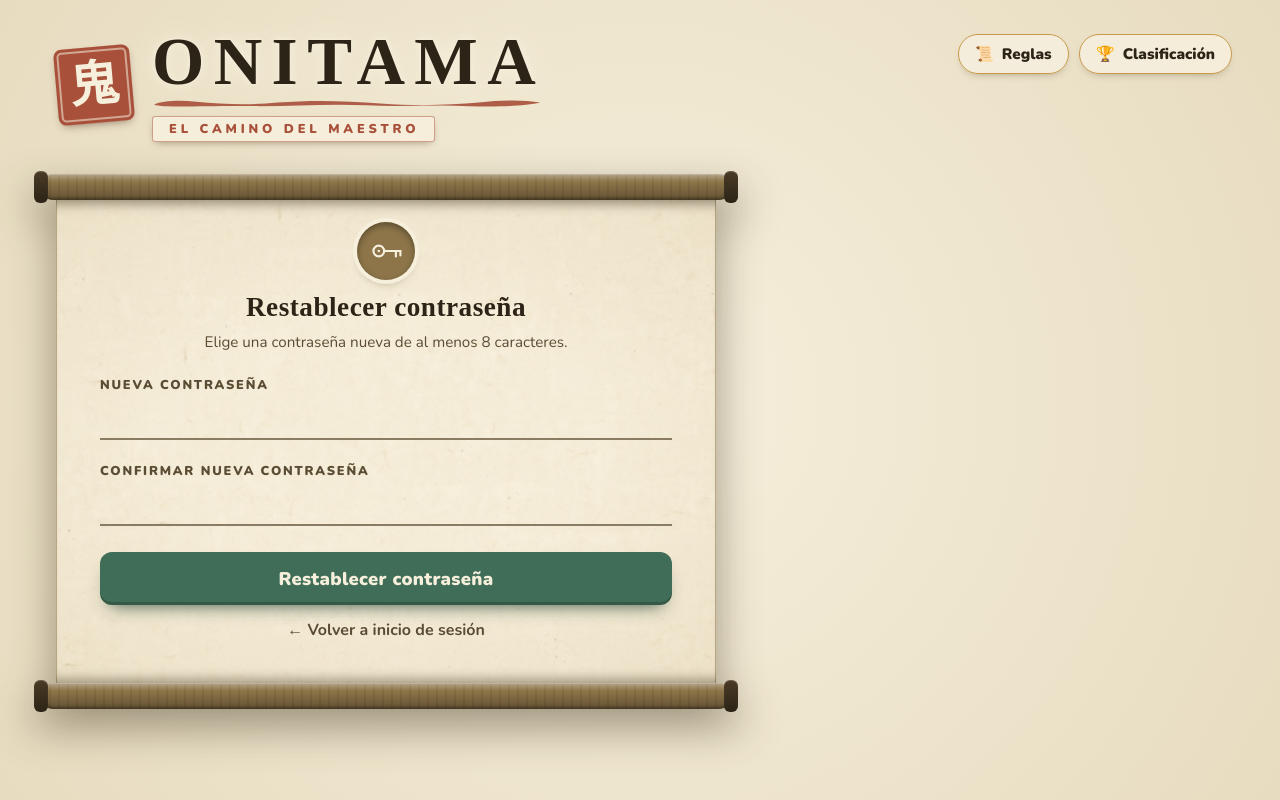
ResetPasswordPage › muestra un error si las conrtraseñas no coinciden
This screenshot has width=1280, height=800.
Step 1. Type "password1" into the password field labelled "Nueva contraseña" → [386, 418], box x1=100 y1=396 x2=672 y2=440
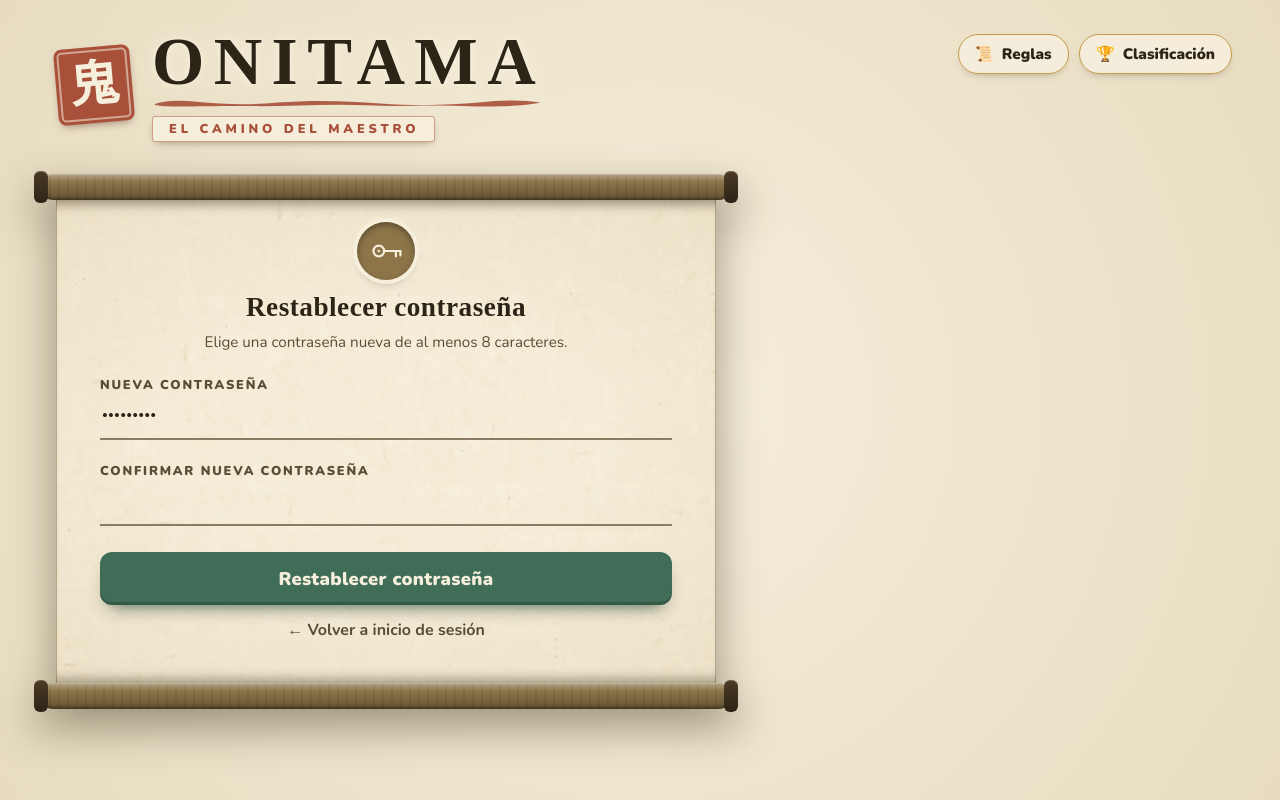
Step 2. Type "password2" into the password field labelled "Confirmar nueva contraseña" → [386, 504], box x1=100 y1=482 x2=672 y2=526
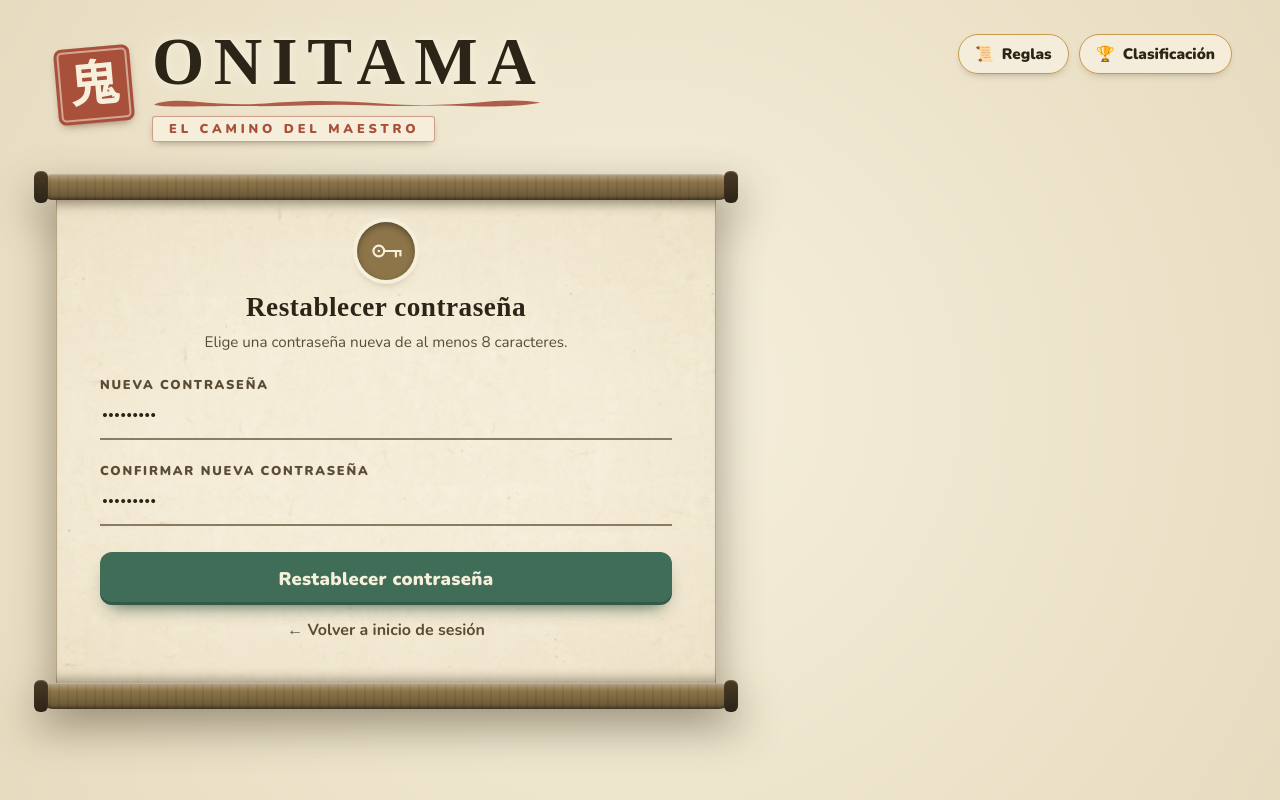
Step 3. Click the button "Restablecer contraseña" → [386, 578], box x1=100 y1=552 x2=672 y2=605
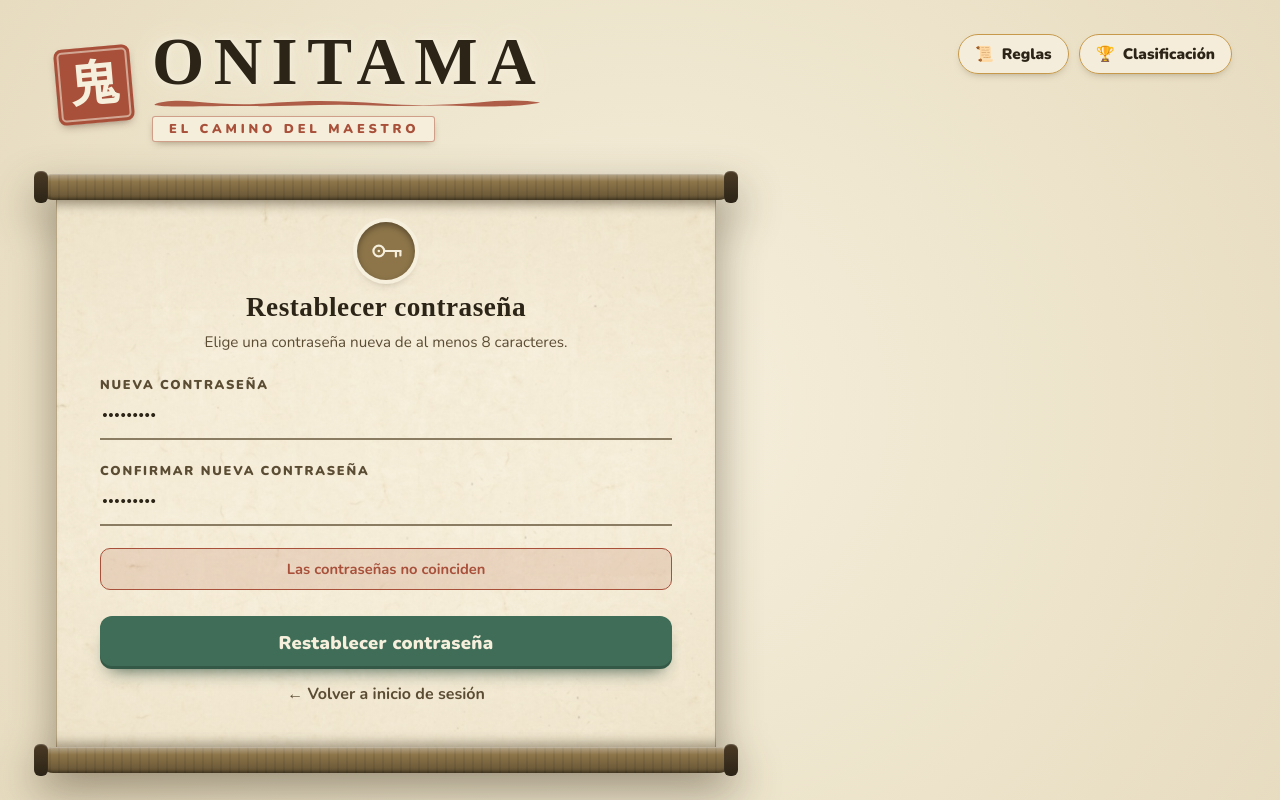
Expected: the text "Las contraseñas no coinciden" is shown, x1=100 y1=548 x2=672 y2=590
